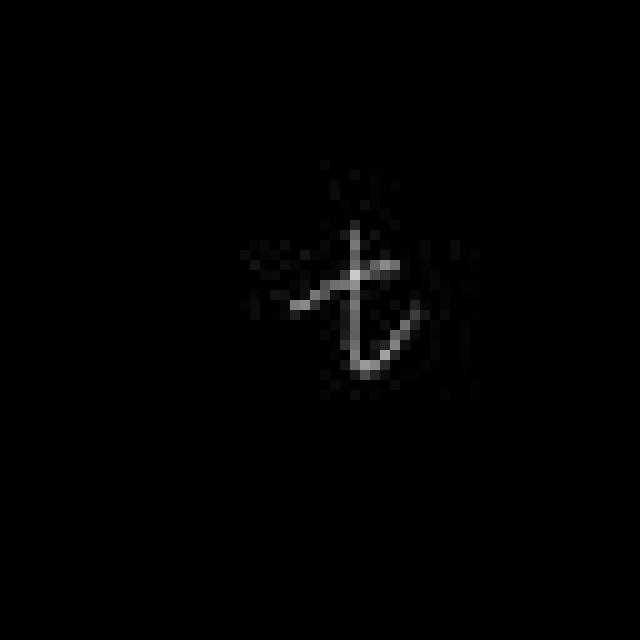7 -seven-: (284, 218, 430, 386)
